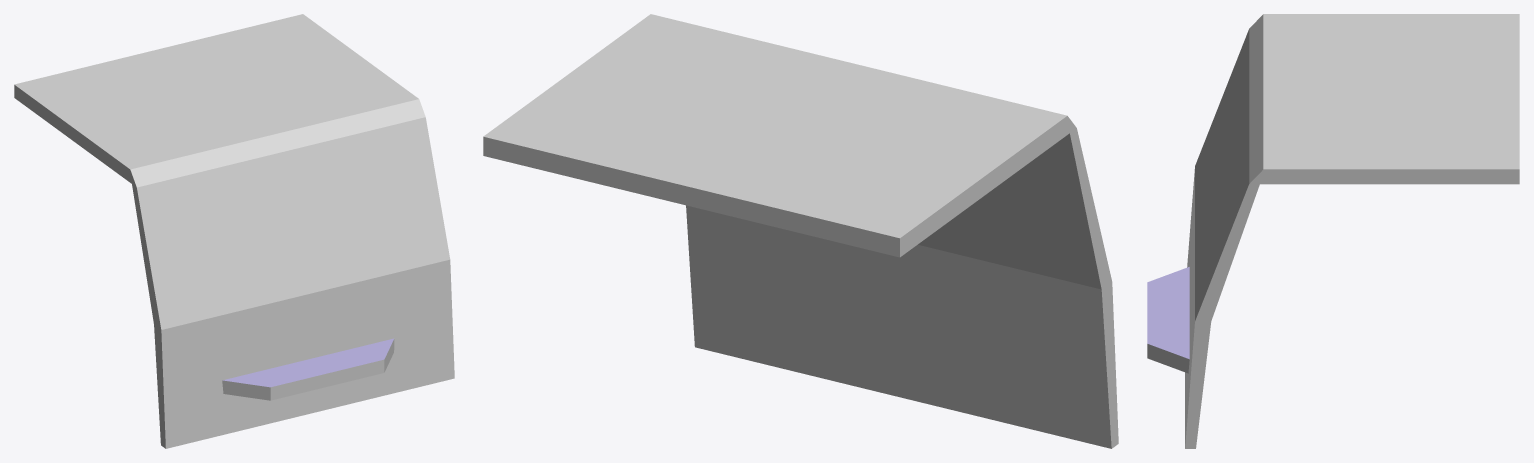
The model's file is infrared_analyzer_cover.gltf.
The picture shows the model from 3 angles, left to right: view 1: azimuth 30°, elevation 25°; view 2: azimuth 150°, elevation 25°; view 3: azimuth 270°, elevation 25°; orthographic projection. The views are drawn at different scales.
Parts seen in each view (by area): view 1: infrared_analyzer_cover, infrared_analyzer_cover_01; view 2: infrared_analyzer_cover; view 3: infrared_analyzer_cover, infrared_analyzer_cover_01.
Part boxes in pixels (bbox=[...]): infrared_analyzer_cover: bbox=[14, 14, 454, 448]; infrared_analyzer_cover_01: bbox=[223, 338, 394, 387]; infrared_analyzer_cover: bbox=[483, 14, 1118, 448]; infrared_analyzer_cover: bbox=[1147, 14, 1519, 448]; infrared_analyzer_cover_01: bbox=[1147, 267, 1189, 359].
Bounding box in the file's own units: 134 × 112 × 135.
